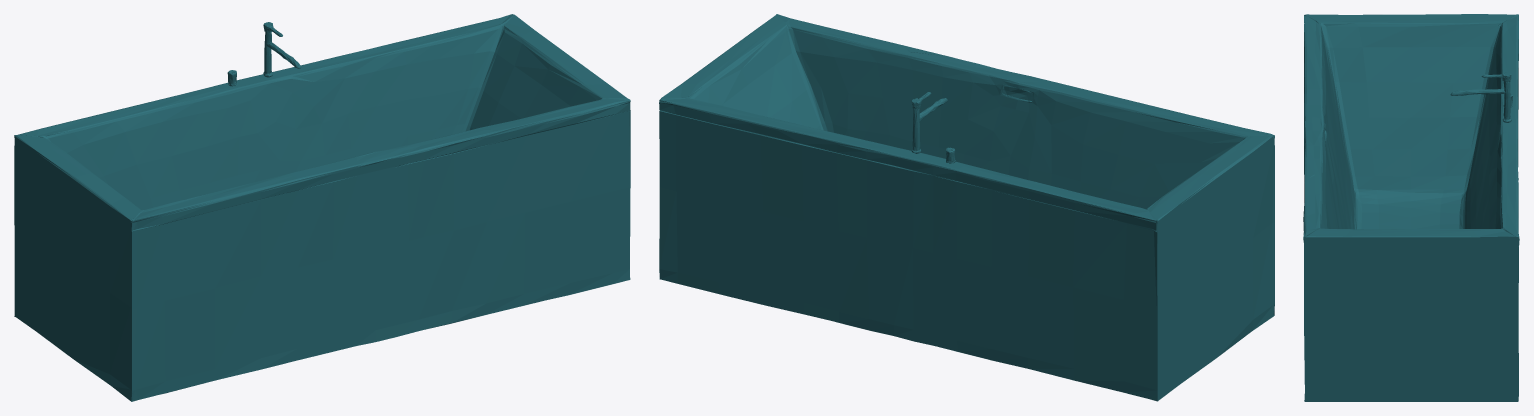
Rendered from gen-bathtub-1.glb.
3 renders of one model, left to right at view 1: azimuth 30°, elevation 25°; view 2: azimuth 150°, elevation 25°; view 3: azimuth 270°, elevation 25°, orthographic. The views are drawn at different scales.
Parts seen in each view (by area): view 1: gen-bathtub-1_part1; view 2: gen-bathtub-1_part1; view 3: gen-bathtub-1_part1.
Boxes of the visible parts, x1,y1,x2,y2 form: gen-bathtub-1_part1: (14, 14, 630, 401); gen-bathtub-1_part1: (659, 14, 1274, 401); gen-bathtub-1_part1: (1303, 14, 1519, 401).
Bounding box in the file's own units: 1275 × 580 × 524.
